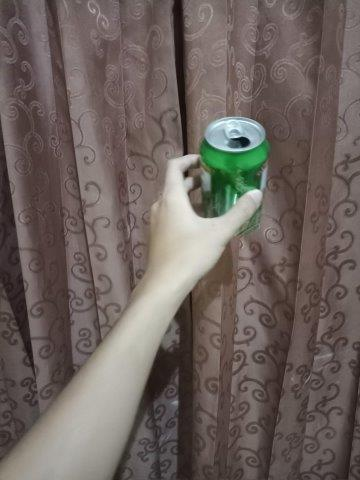kaleng: (200, 116, 271, 235)
